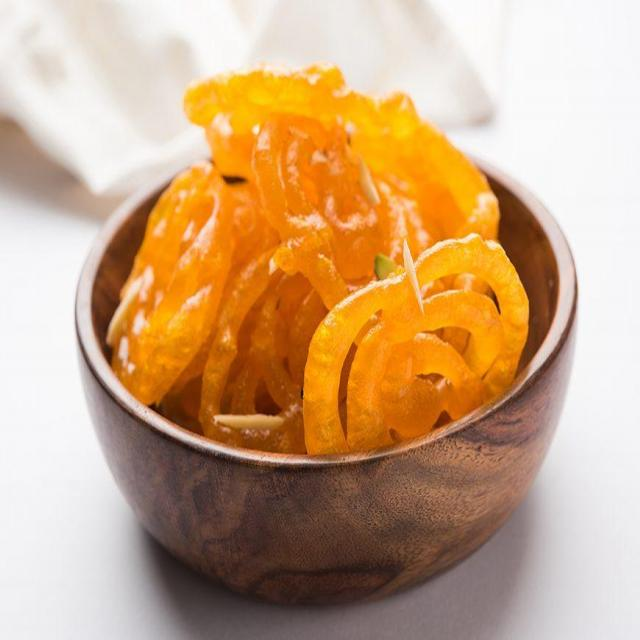jalebi: (109, 73, 546, 423)
